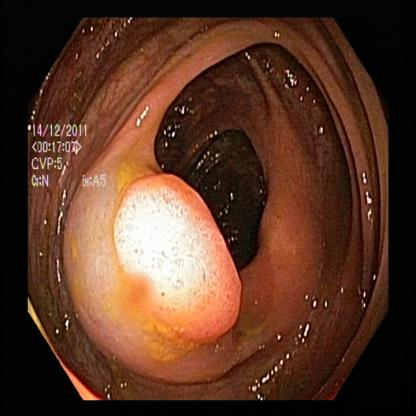Labels: (23, 120, 113, 194)
Polyps: (117, 166, 239, 339)
